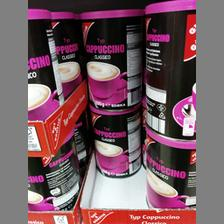Kaffee: (142, 0, 194, 140), (78, 7, 142, 109), (86, 102, 142, 178), (143, 126, 195, 206)
